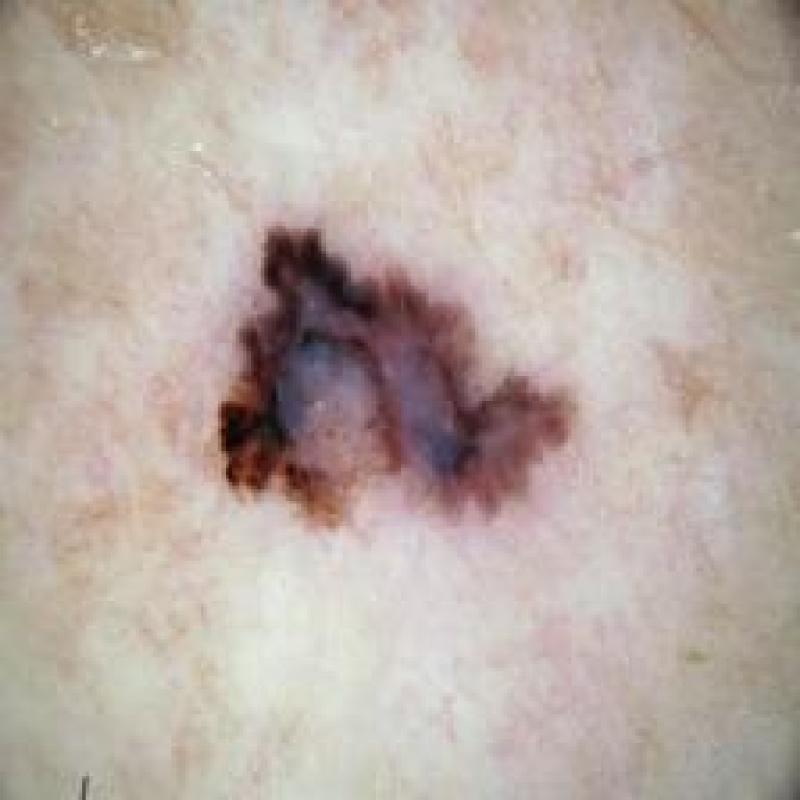malignant: (145, 202, 589, 568)
